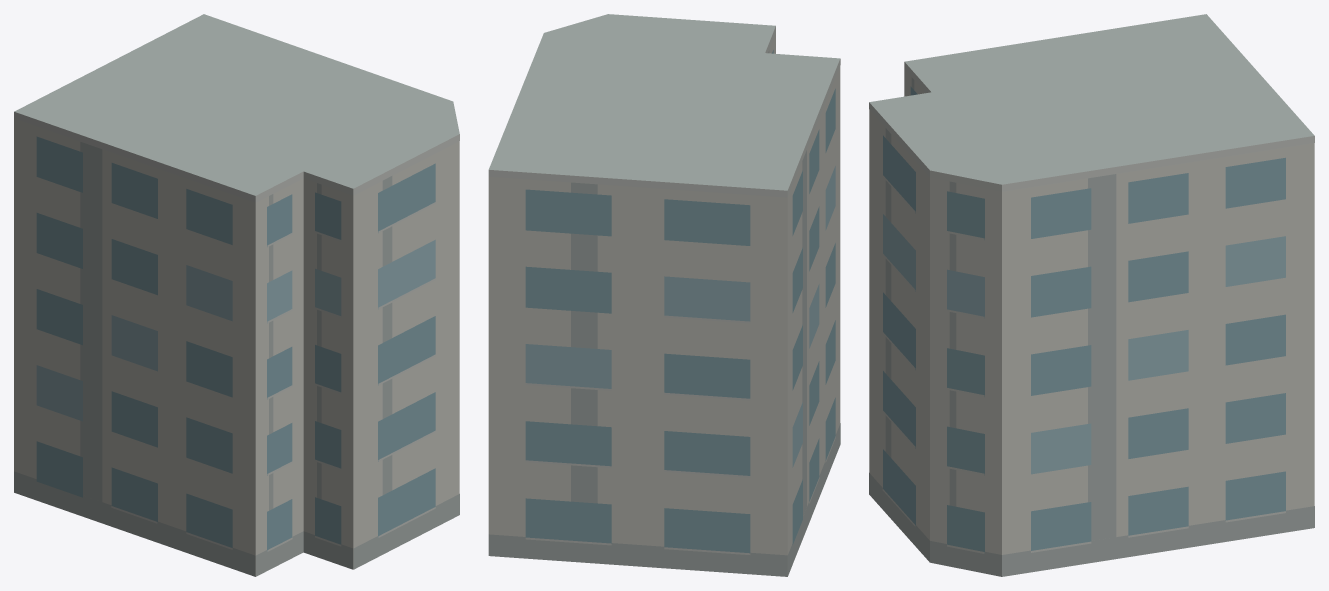
File: survey-upis-32527981.glb
3 renders of one model, left to right at view 1: azimuth 30°, elevation 25°; view 2: azimuth 150°, elevation 25°; view 3: azimuth 270°, elevation 25°, orthographic. The views are drawn at different scales.
Parts seen in each view (by area): view 1: survey-upis-32527981.tmp; view 2: survey-upis-32527981.tmp; view 3: survey-upis-32527981.tmp.
Part boxes in pixels (x1,y1,x2,y2): survey-upis-32527981.tmp: (14, 14, 459, 576); survey-upis-32527981.tmp: (488, 14, 840, 576); survey-upis-32527981.tmp: (869, 14, 1314, 576).
Bounding box in the file's own units: 12.61 × 13.5 × 13.92.
